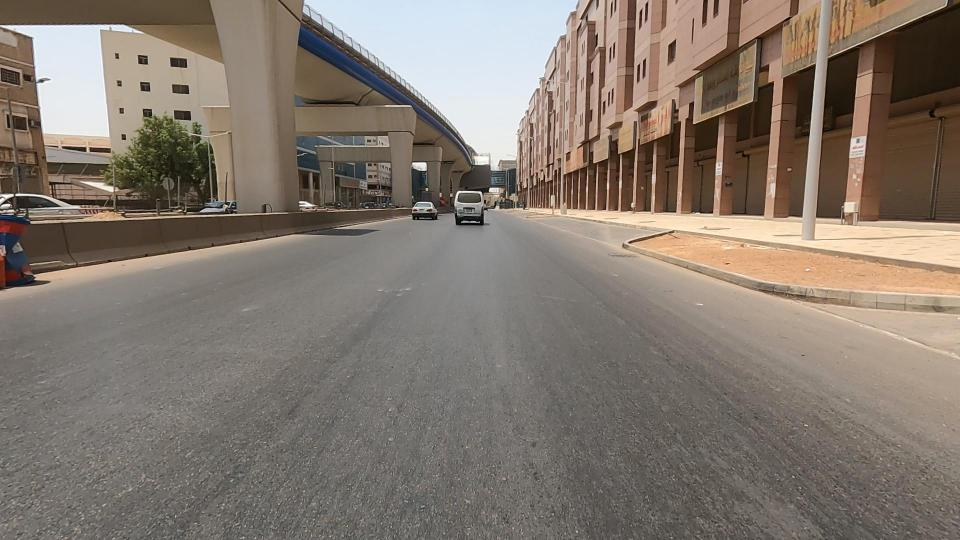BAD_BILLBOARD: (740, 0, 934, 79), (657, 45, 802, 139), (581, 97, 697, 196), (584, 93, 726, 149), (569, 124, 643, 170)
BROKEN_SIGNAGE: (0, 171, 56, 326)
